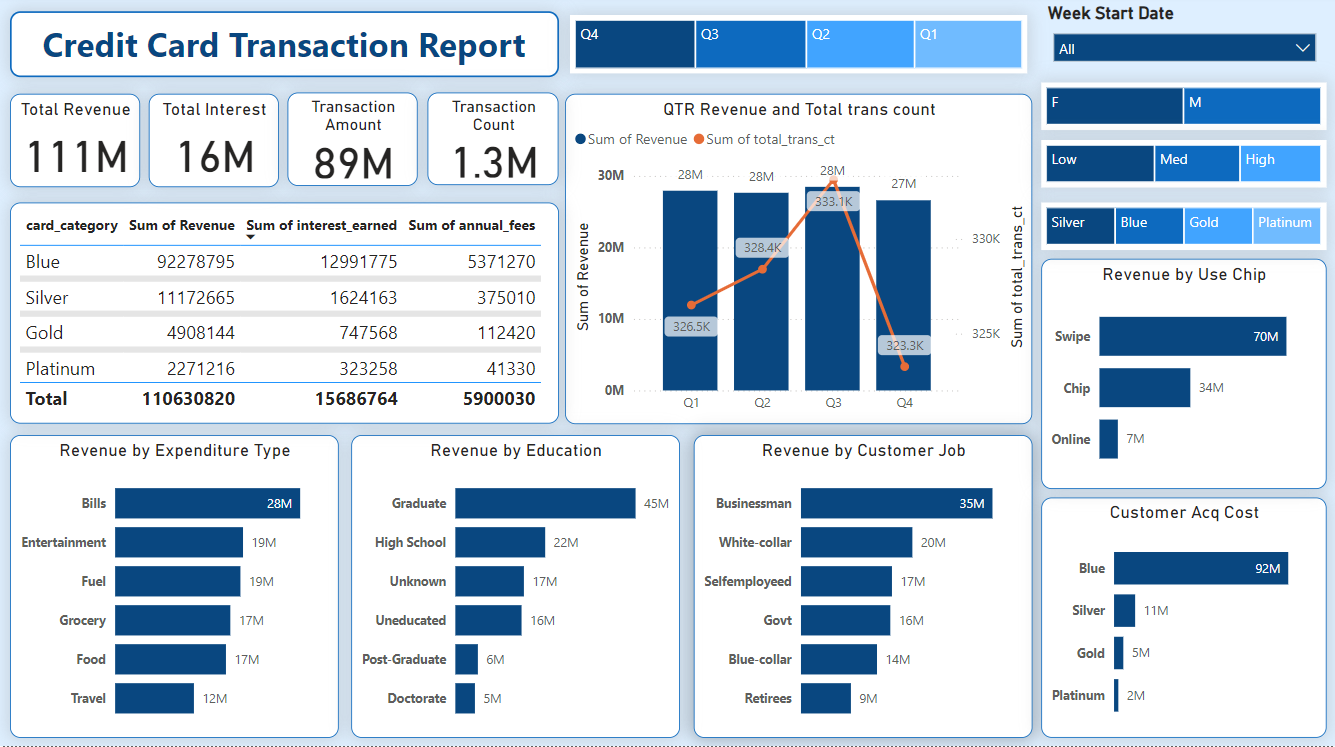

Layout of this report page (visuals, bound fields, positions):
{"tool":"powerbi","page":{"name":"CC Transaction","canvas":[1280,720],"ordinal":1},"visuals":[{"type":"textbox","box":[9.6,16,526.1,63],"z":0},{"type":"lineStackedColumnComboChart","title":"QTR Revenue and Total trans count","fields":{"Category":["public cc_detail.qtr"],"Y":["Sum(public cc_detail.Revenue)"],"Y2":["Sum(public cc_detail.total_trans_ct)"]},"box":[541.7,94.7,448.2,316.4],"z":1000},{"type":"barChart","title":" Revenue by Expenditure Type","fields":{"Y":["Sum(public cc_detail.Revenue)"],"Category":["public cc_detail.exp_type"]},"box":[9.6,421.9,315,290],"z":2000},{"type":"barChart","title":" Revenue by Customer Job","fields":{"Y":["Sum(public cc_detail.Revenue)"],"Category":["public cust_detail.customer_job"]},"box":[665.2,421.9,324.8,290],"z":3000},{"type":"barChart","title":" Revenue by Education","fields":{"Y":["Sum(public cc_detail.Revenue)"],"Category":["public cust_detail.education_level"]},"box":[336.8,421.9,315.2,290],"z":4000},{"type":"barChart","title":"Customer Acq Cost","fields":{"Y":["Sum(public cc_detail.Revenue)"],"Category":["public cc_detail.card_category"]},"box":[998.4,481.8,273.3,230.1],"z":5000},{"type":"tableEx","fields":{"Values":["public cc_detail.card_category","Sum(public cc_detail.Revenue)","Sum(public cc_detail.interest_earned)","Sum(public cc_detail.annual_fees)"]},"box":[9.6,199,526.1,212.1],"z":6000},{"type":"barChart","title":" Revenue by Use Chip","fields":{"Y":["Sum(public cc_detail.Revenue)"],"Category":["public cc_detail.use_chip"]},"box":[998.4,252.9,273.3,220.5],"z":7000},{"type":"card","title":"Total Revenue","fields":{"Values":["Sum(public cc_detail.Revenue)"]},"box":[9.6,94.7,124.6,89.9],"z":8000},{"type":"card","title":"Total Interest","fields":{"Values":["Sum(public cc_detail.interest_earned)"]},"box":[143,94.7,124.6,89.9],"z":9000},{"type":"card","title":"Transaction Amount","fields":{"Values":["Sum(public cc_detail.total_trans_amt)"]},"box":[275.7,94,124.6,89.9],"z":10000},{"type":"card","title":"Transaction Count","fields":{"Values":["Sum(public cc_detail.total_trans_ct)"]},"box":[409.9,94,125.8,88.7],"z":11000},{"type":"slicer","title":"Week Start Date","fields":{"Values":["public cc_detail.week_start_date"]},"box":[999.6,7.2,272.1,68.3],"z":12000},{"type":"treemap","fields":{"Group":["public cc_detail.qtr"],"Values":["Avg(public cc_detail.client_num)"]},"box":[546.5,19.2,438.7,56.3],"z":13000},{"type":"treemap","fields":{"Values":["Avg(public cc_detail.client_num)"],"Group":["public cust_detail.gender"]},"box":[998.4,83.9,273.3,45.5],"z":14000},{"type":"treemap","fields":{"Group":["public cust_detail.IncomeGroup"],"Values":["CountNonNull(public cc_detail.Revenue)"]},"box":[998.4,139,273.3,45.5],"z":15000},{"type":"treemap","fields":{"Values":["Avg(public cc_detail.client_num)"],"Group":["public cc_detail.card_category"]},"box":[998.4,199,273.3,45.5],"z":16000}]}

Visuals, with their boxes in screenshot pixels (x1, y1, x2, y2), scaled from the page's 1280x720 canvas onto the 1335x747 screenshot:
textbox: 10, 17, 559, 82
"QTR Revenue and Total trans count" lineStackedColumnComboChart: 565, 98, 1032, 427
" Revenue by Expenditure Type" barChart: 10, 438, 339, 739
" Revenue by Customer Job" barChart: 694, 438, 1033, 739
" Revenue by Education" barChart: 351, 438, 680, 739
"Customer Acq Cost" barChart: 1041, 500, 1326, 739
tableEx - public cc_detail.card_category x Sum(public cc_detail.Revenue): 10, 206, 559, 427
" Revenue by Use Chip" barChart: 1041, 262, 1326, 491
"Total Revenue" card: 10, 98, 140, 192
"Total Interest" card: 149, 98, 279, 192
"Transaction Amount" card: 288, 98, 418, 191
"Transaction Count" card: 428, 98, 559, 190
"Week Start Date" slicer: 1043, 7, 1326, 78
treemap - public cc_detail.qtr x Avg(public cc_detail.client_num): 570, 20, 1028, 78
treemap - Avg(public cc_detail.client_num) x public cust_detail.gender: 1041, 87, 1326, 134
treemap - public cust_detail.IncomeGroup x CountNonNull(public cc_detail.Revenue): 1041, 144, 1326, 191
treemap - Avg(public cc_detail.client_num) x public cc_detail.card_category: 1041, 206, 1326, 254
